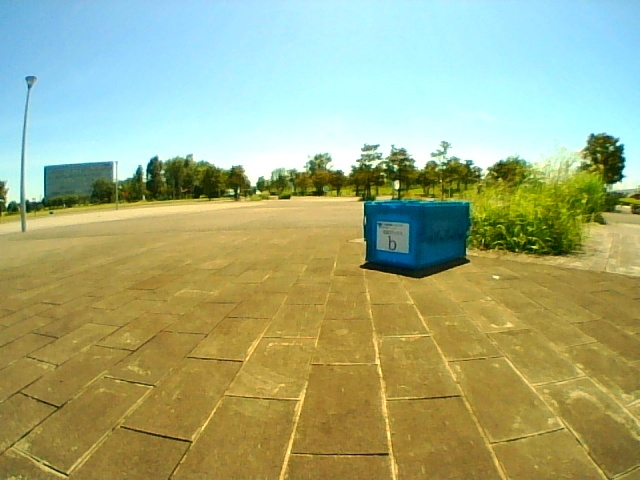blue_box: (365, 201, 468, 266)
tag_b: (378, 224, 407, 251)
